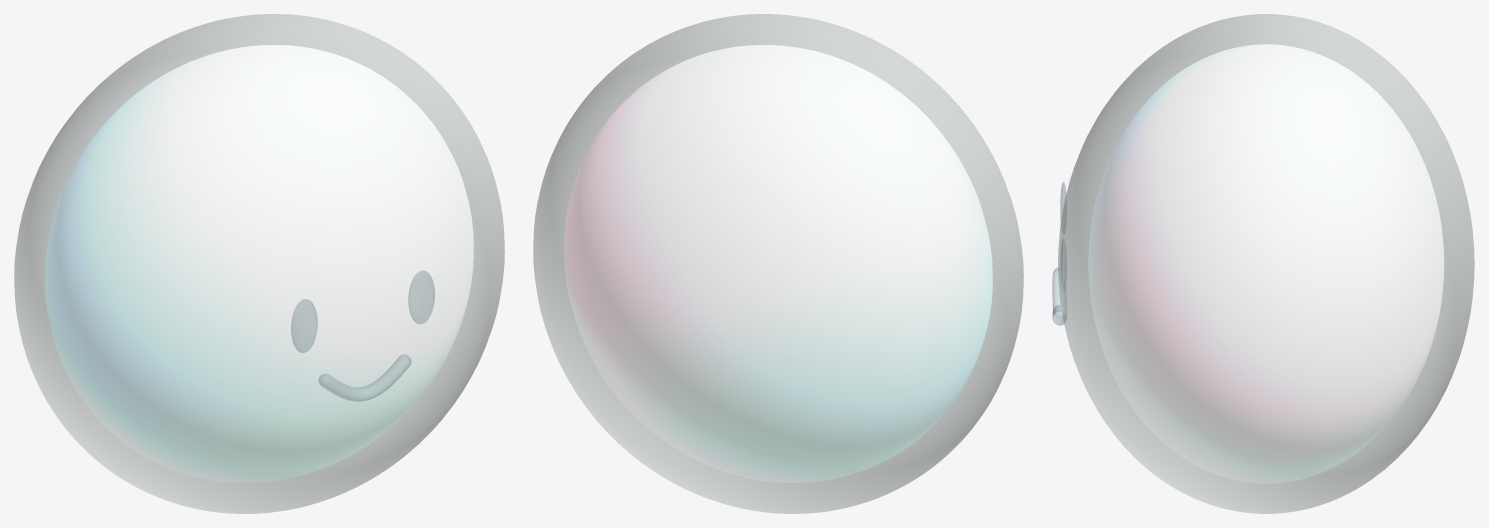
File: livia-soul-orb-v2.glb
3 views of the same model, side by side, from view 1: azimuth 30°, elevation 25°; view 2: azimuth 150°, elevation 25°; view 3: azimuth 270°, elevation 25° (orthographic). The views are drawn at different scales.
Parts seen in each view (by area): view 1: SoulShell, ChromaticCore, Smile, EyeLeft, EyeRight; view 2: SoulShell, ChromaticCore; view 3: SoulShell, ChromaticCore, Smile.
Boxes of the visible parts, left/top/right/bottom form: SoulShell: left=14, top=14, right=504, bottom=513; ChromaticCore: left=45, top=45, right=473, bottom=482; Smile: left=318, top=354, right=411, bottom=401; EyeLeft: left=291, top=299, right=317, bottom=352; EyeRight: left=408, top=270, right=434, bottom=324; SoulShell: left=533, top=14, right=1023, bottom=513; ChromaticCore: left=564, top=45, right=992, bottom=482; SoulShell: left=1058, top=14, right=1474, bottom=513; ChromaticCore: left=1088, top=44, right=1444, bottom=483; Smile: left=1052, top=268, right=1066, bottom=325.
Bounding box in the file's own units: 2.64 × 2.64 × 2.23.
